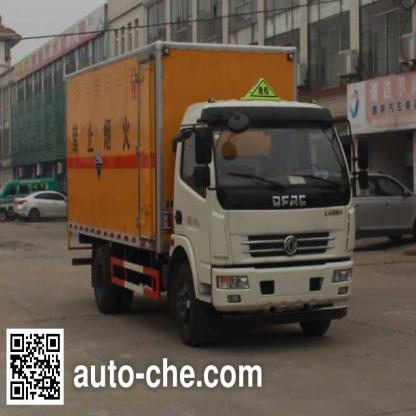normal-truck: (59, 34, 360, 323)
